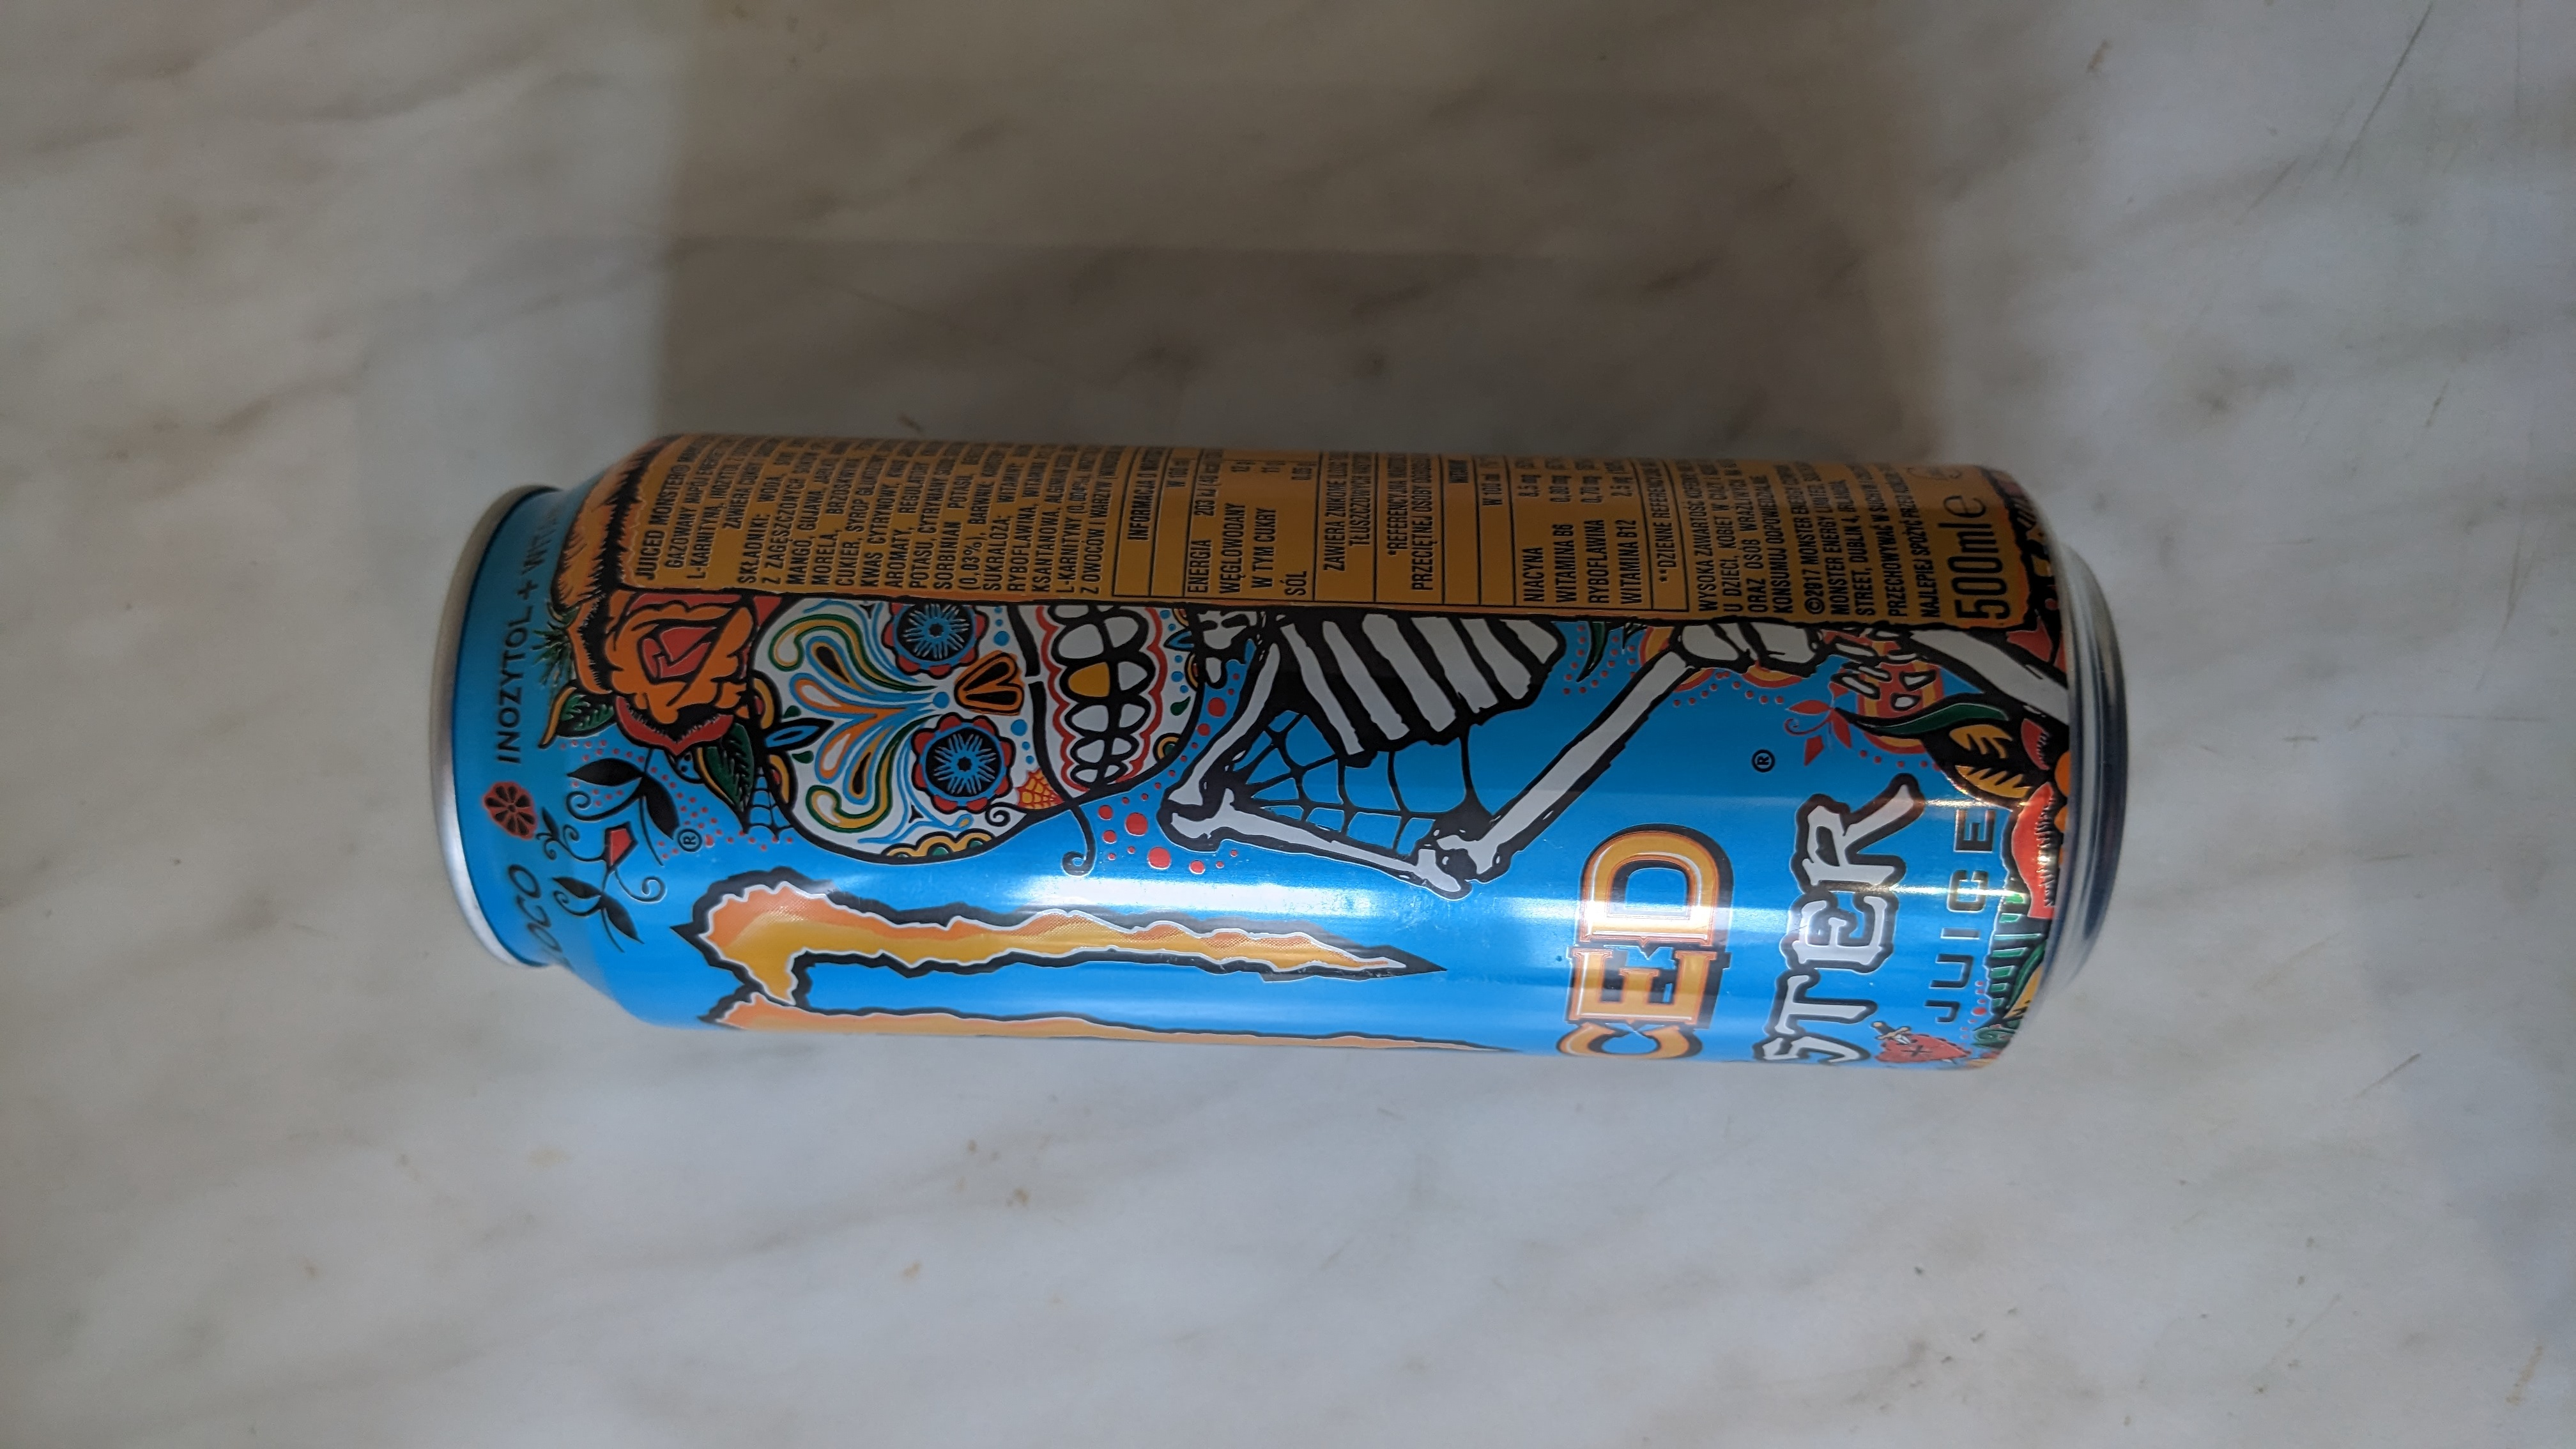monster: (410, 425, 2167, 1092)
